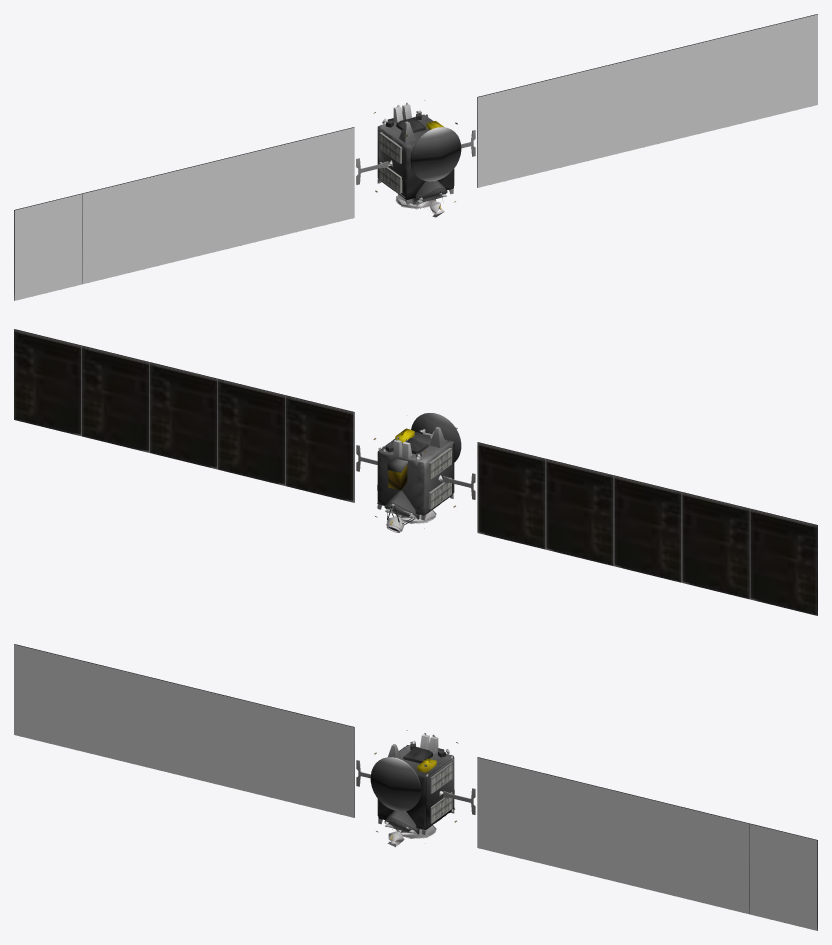
The model's file is space-dawn.glb.
3 renders of one model, top to bottom at view 1: azimuth 30°, elevation 25°; view 2: azimuth 150°, elevation 25°; view 3: azimuth 330°, elevation 25°, orthographic.
Visible parts, largest first — view 1: tex_01.002, black_krinkle, tex_01; view 2: tex_01, black_krinkle, foil_gold; view 3: tex_01.002, black_krinkle, tex_01.
Part boxes in pixels (x1,y1,x2,y2): tex_01.002: [14, 14, 817, 300]; black_krinkle: [377, 104, 461, 208]; tex_01: [14, 14, 817, 300]; tex_01: [14, 329, 817, 615]; black_krinkle: [377, 413, 461, 523]; foil_gold: [388, 428, 414, 490]; tex_01.002: [14, 644, 817, 930]; black_krinkle: [370, 734, 454, 838]; tex_01: [14, 644, 817, 930].
Size of the model in its own units: 19.7 by 2.13 by 2.14.
4 materials, 3 textured.
